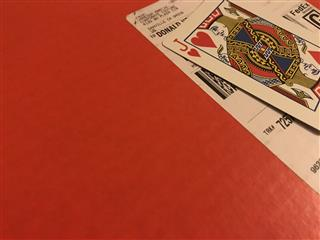JackOfHearts: (161, 1, 320, 131)
